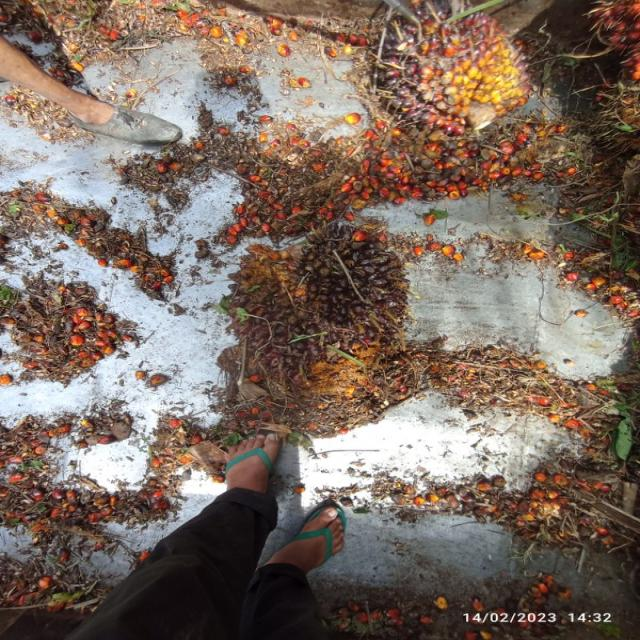fraksi 00: (228, 224, 404, 400)
fraksi 1: (374, 5, 525, 132)
